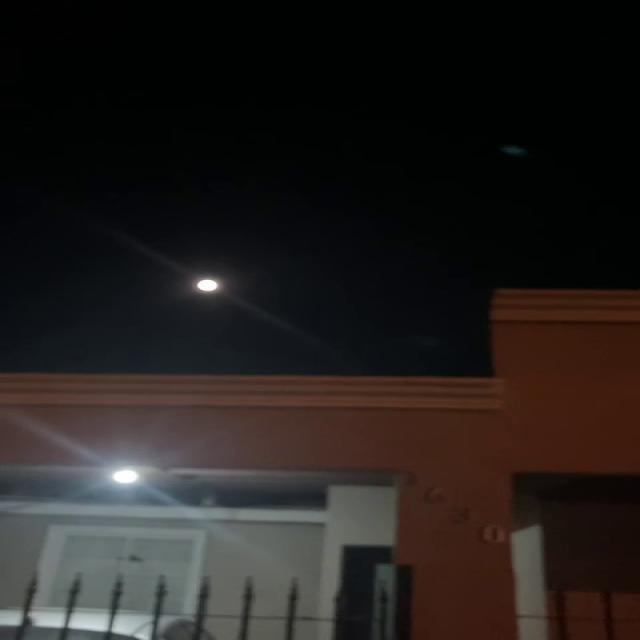moon: (184, 265, 236, 296)
